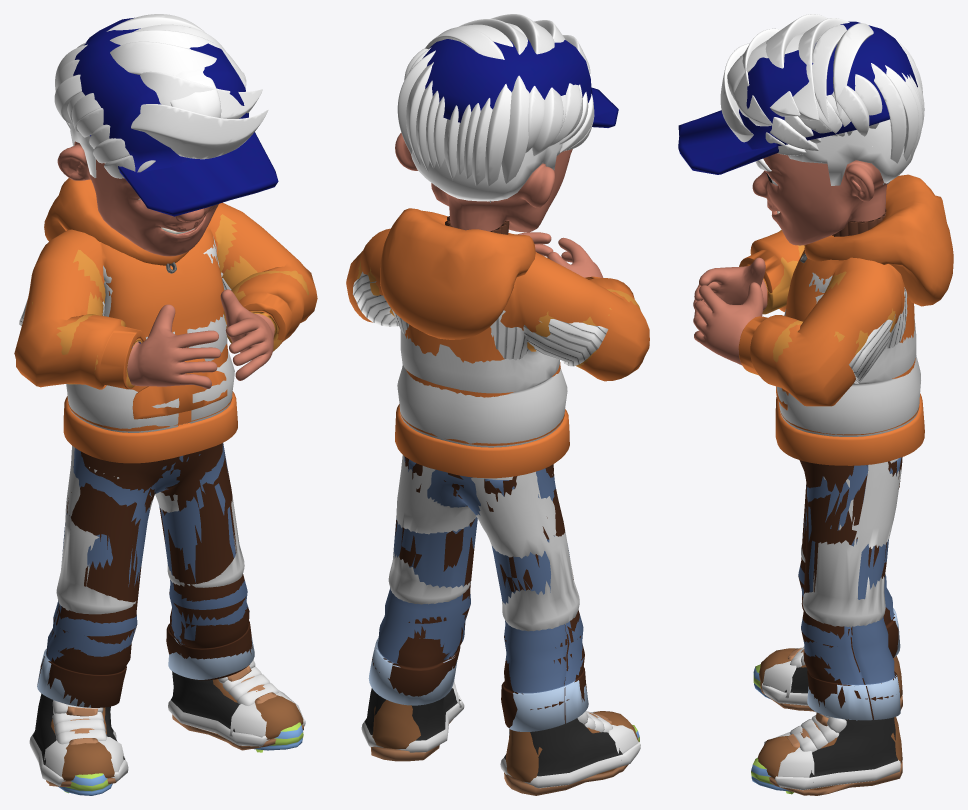
The model's file is male_mvp_fixed.glb.
The picture shows the model from 3 angles, left to right: view 1: azimuth 30°, elevation 25°; view 2: azimuth 150°, elevation 25°; view 3: azimuth 270°, elevation 25°; orthographic projection. The views are drawn at different scales.
Parts seen in each view (by area): view 1: male-outfit-casual__outfit__sweater, male-outfit-casual__outfit__brown_jeans, male-outfit-casual__hair__hair.001, male-outfit-baseball__outfit__baseball_hat, male-outfit-baseball__base__Body, male-outfit-casual__outfit__jeans, male-outfit-casual__outfit__shoesh_black, male-outfit-casual__outfit__jacket, male-outfit-baseball__outfit__baseball_pants, male-outfit-casual__outfit__boots, male-outfit-baseball__outfit__Baseball_Shoesh, male-outfit-casual__hair__hair; view 2: male-outfit-casual__outfit__sweater, male-outfit-casual__outfit__jeans, male-outfit-casual__hair__hair.001, male-outfit-casual__outfit__jacket, male-outfit-baseball__outfit__baseball_pants, male-outfit-baseball__outfit__baseball_hat, male-outfit-casual__outfit__shoesh_black, male-outfit-casual__outfit__brown_jeans, male-outfit-baseball__base__Body, male-outfit-casual__outfit__boots, male-outfit-baseball__outfit__base_ball_shirt, male-outfit-casual__hair__base_hair; view 3: male-outfit-casual__outfit__sweater, male-outfit-casual__hair__hair.001, male-outfit-baseball__base__Body, male-outfit-casual__outfit__jeans, male-outfit-casual__outfit__jacket, male-outfit-baseball__outfit__baseball_hat, male-outfit-casual__outfit__shoesh_black, male-outfit-baseball__outfit__baseball_pants, male-outfit-casual__outfit__brown_jeans, male-outfit-casual__hair__base_hair, male-outfit-casual__outfit__boots, male-outfit-baseball__outfit__base_ball_shirt (+2 smaller).
Boxes of the visible parts, x1,y1,x2,y2 form: male-outfit-casual__outfit__sweater: [14, 178, 317, 463]; male-outfit-casual__outfit__brown_jeans: [37, 443, 252, 707]; male-outfit-casual__hair__hair.001: [54, 14, 268, 178]; male-outfit-baseball__outfit__baseball_hat: [73, 17, 278, 216]; male-outfit-baseball__base__Body: [57, 141, 274, 388]; male-outfit-casual__outfit__jeans: [37, 443, 254, 707]; male-outfit-casual__outfit__shoesh_black: [29, 660, 305, 786]; male-outfit-casual__outfit__jacket: [28, 214, 308, 432]; male-outfit-baseball__outfit__baseball_pants: [56, 446, 244, 614]; male-outfit-casual__outfit__boots: [46, 665, 303, 786]; male-outfit-baseball__outfit__Baseball_Shoesh: [58, 722, 303, 795]; male-outfit-casual__hair__hair: [170, 48, 221, 117]; male-outfit-casual__outfit__sweater: [346, 208, 649, 478]; male-outfit-casual__outfit__jeans: [368, 456, 588, 731]; male-outfit-casual__hair__hair.001: [397, 14, 594, 202]; male-outfit-casual__outfit__jacket: [357, 216, 640, 447]; male-outfit-baseball__outfit__baseball_pants: [388, 455, 579, 631]; male-outfit-baseball__outfit__baseball_hat: [422, 39, 618, 127]; male-outfit-casual__outfit__shoesh_black: [361, 681, 640, 788]; male-outfit-casual__outfit__brown_jeans: [372, 456, 586, 727]; male-outfit-baseball__base__Body: [395, 133, 603, 277]; male-outfit-casual__outfit__boots: [370, 700, 638, 795]; male-outfit-baseball__outfit__base_ball_shirt: [353, 271, 608, 366]; male-outfit-casual__hair__base_hair: [411, 141, 562, 201]; male-outfit-casual__outfit__sweater: [738, 174, 953, 465]; male-outfit-casual__hair__hair.001: [720, 14, 924, 184]; male-outfit-baseball__base__Body: [693, 153, 887, 365]; male-outfit-casual__outfit__jeans: [798, 457, 902, 720]; male-outfit-casual__outfit__jacket: [744, 208, 920, 436]; male-outfit-baseball__outfit__baseball_hat: [678, 21, 917, 174]; male-outfit-casual__outfit__shoesh_black: [761, 646, 900, 790]; male-outfit-baseball__outfit__baseball_pants: [801, 458, 901, 627]; male-outfit-casual__outfit__brown_jeans: [798, 457, 902, 719]; male-outfit-casual__hair__base_hair: [788, 119, 914, 185]; male-outfit-casual__outfit__boots: [758, 648, 902, 795]; male-outfit-baseball__outfit__base_ball_shirt: [849, 288, 907, 383].
Bounding box in the file's own units: 3.32 × 7.79 × 2.72.
23 materials, 3 textured.
